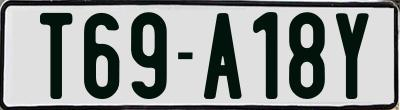1: (251, 10, 277, 102)
6: (84, 11, 123, 102)
8: (288, 9, 326, 101)
9: (130, 10, 172, 99)
A: (204, 12, 244, 102)
T: (38, 10, 70, 101)
Y: (336, 11, 369, 103)
